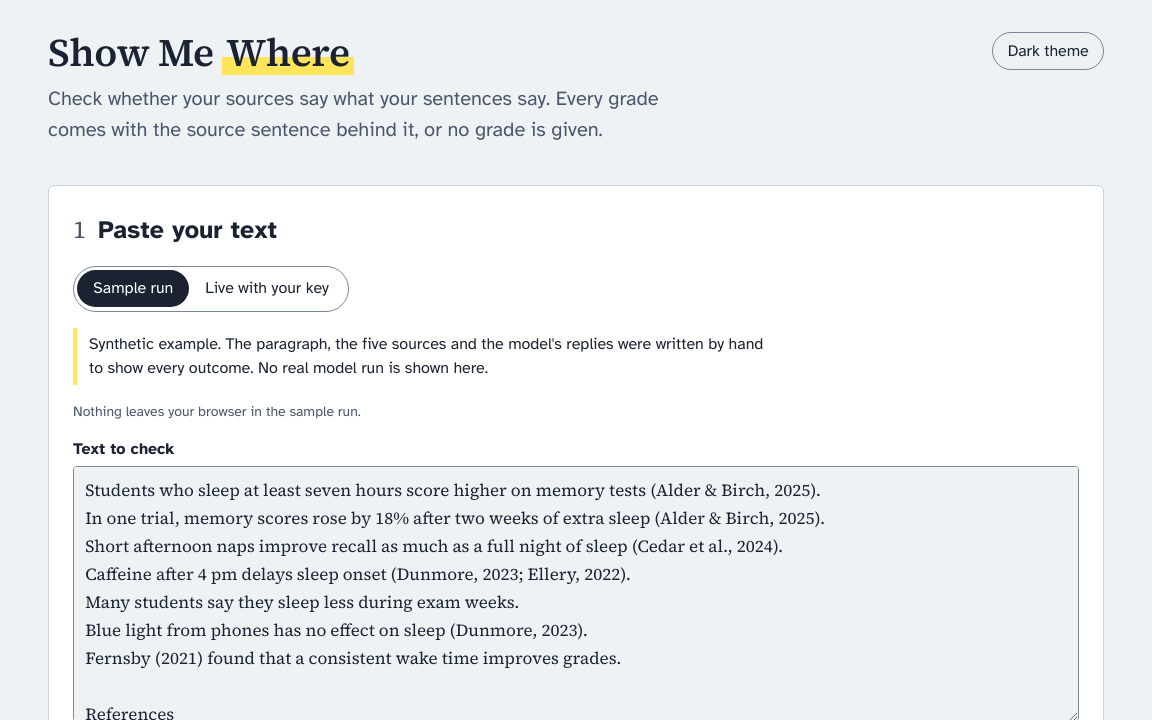
Test: App › switches to the dark theme and remembers it
Click the button "Dark theme". click: (1048, 51)
box: [992,32,1104,70]
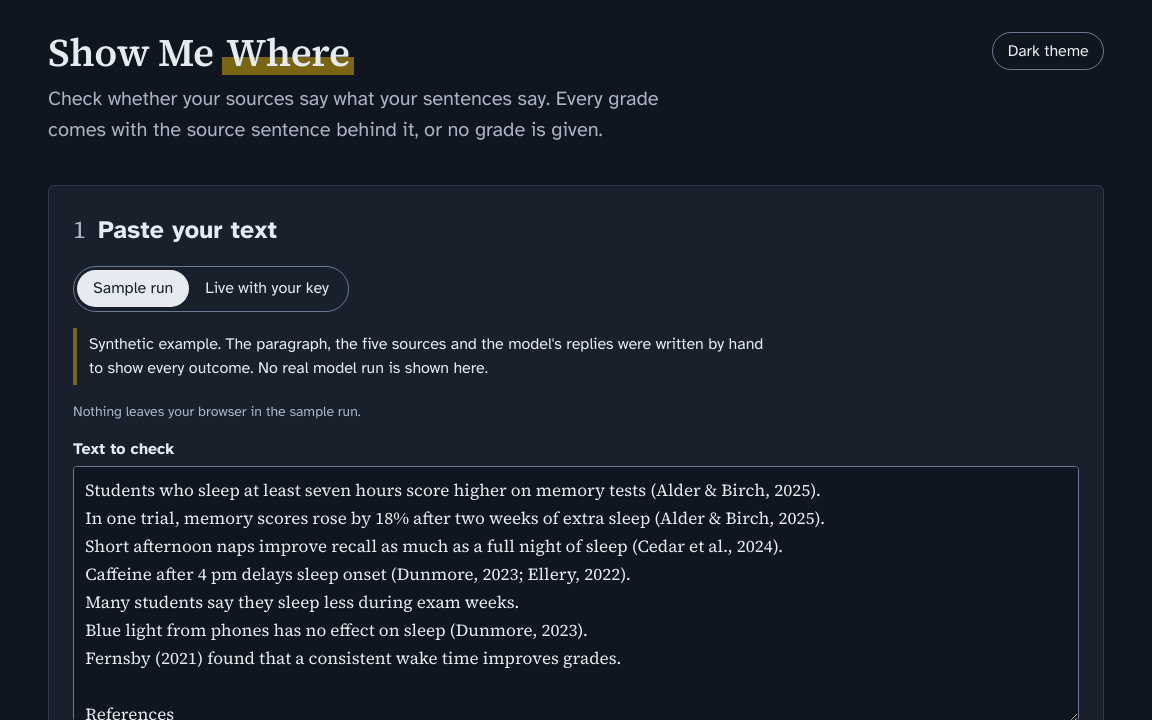
Check: the button "Dark theme" is pressed, box [992,32,1104,70]
